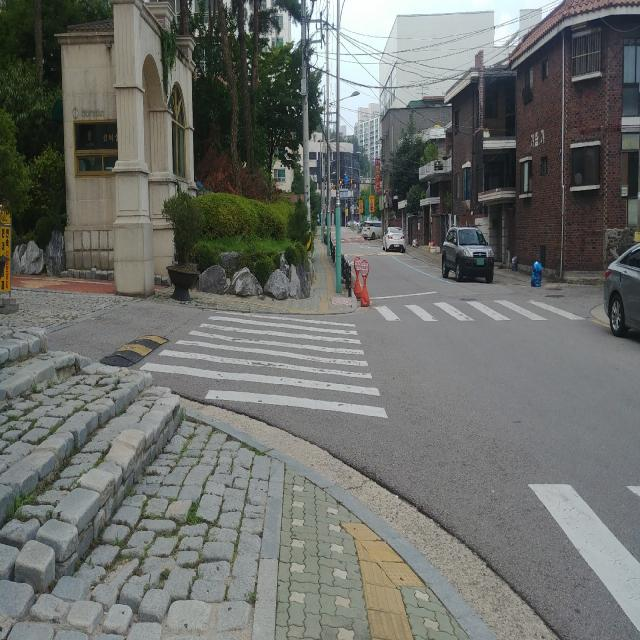횡단보도: (139, 308, 389, 422)
